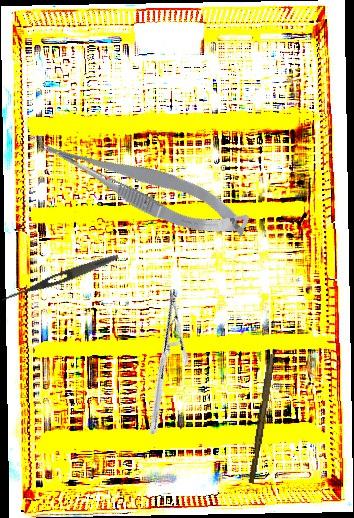Dressing Forceps: (0, 251, 120, 306)
Micro Scissor: (36, 113, 254, 258)
Needle Holder: (105, 288, 221, 435)
Scalpel Handle: (247, 353, 276, 484)
